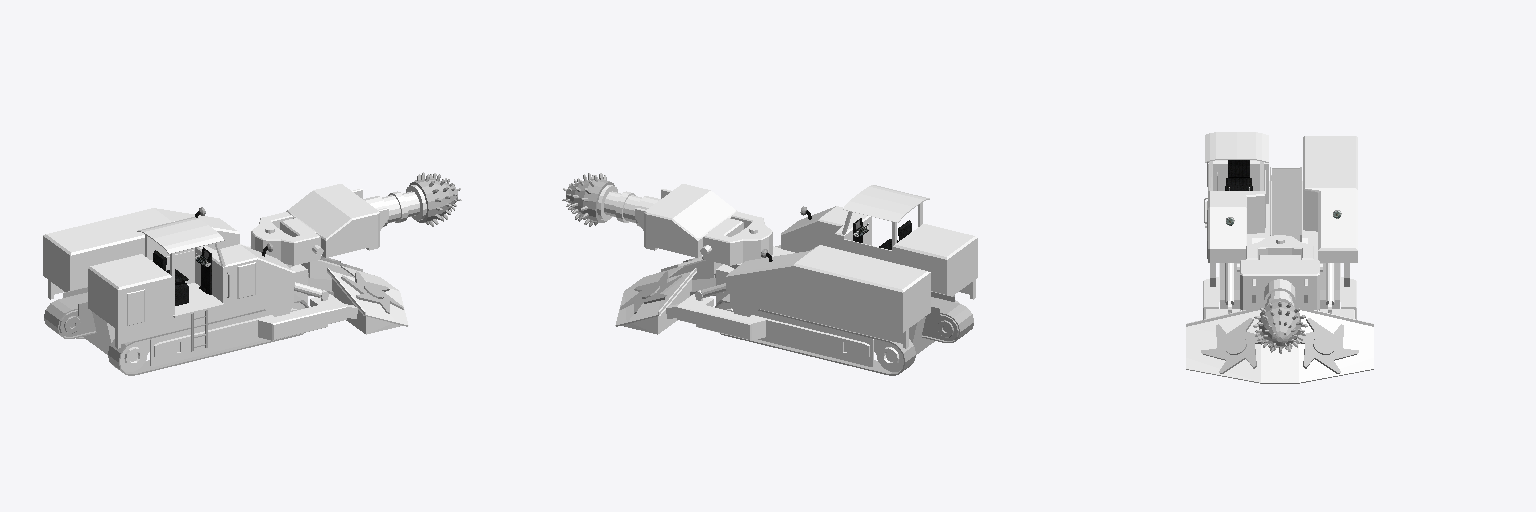
3 views of the same model, side by side, from view 1: azimuth 30°, elevation 25°; view 2: azimuth 150°, elevation 25°; view 3: azimuth 270°, elevation 25° (orthographic).
Parts seen in each view (by area): view 1: Body, drill_body, front_shovel, drill, drill_body_rotator, rope, shovel_gear, wheels; view 2: Body, drill_body, front_shovel, drill, drill_body_rotator, rope, shovel_gear, wheels; view 3: Body, front_shovel, drill_body, shovel_gear, drill, drill_body_rotator, rope.
Part boxes in pixels (x1,y1,x2,y2): Body: (43,207,357,366); drill_body: (280,184,388,257); front_shovel: (301,260,408,334); drill: (363,172,461,226); drill_body_rotator: (250,212,320,267); rope: (76,294,308,375); shovel_gear: (320,256,403,313); wheels: (120,302,304,371); Body: (666,185,977,366); drill_body: (635,184,743,257); front_shovel: (615,260,722,334); drill: (562,173,660,226); drill_body_rotator: (703,212,780,268); rope: (715,294,959,375); shovel_gear: (620,256,703,313); wheels: (719,302,903,371); Body: (1203,132,1357,319); front_shovel: (1186,310,1373,383); drill_body: (1237,255,1322,309); shovel_gear: (1201,318,1358,373); drill: (1253,279,1307,353); drill_body_rotator: (1246,235,1313,259); rope: (1220,263,1339,310).
Bounding box in the file's own units: 4.79 × 1.44 × 1.93.
Materials: 4 (1 with a texture image).